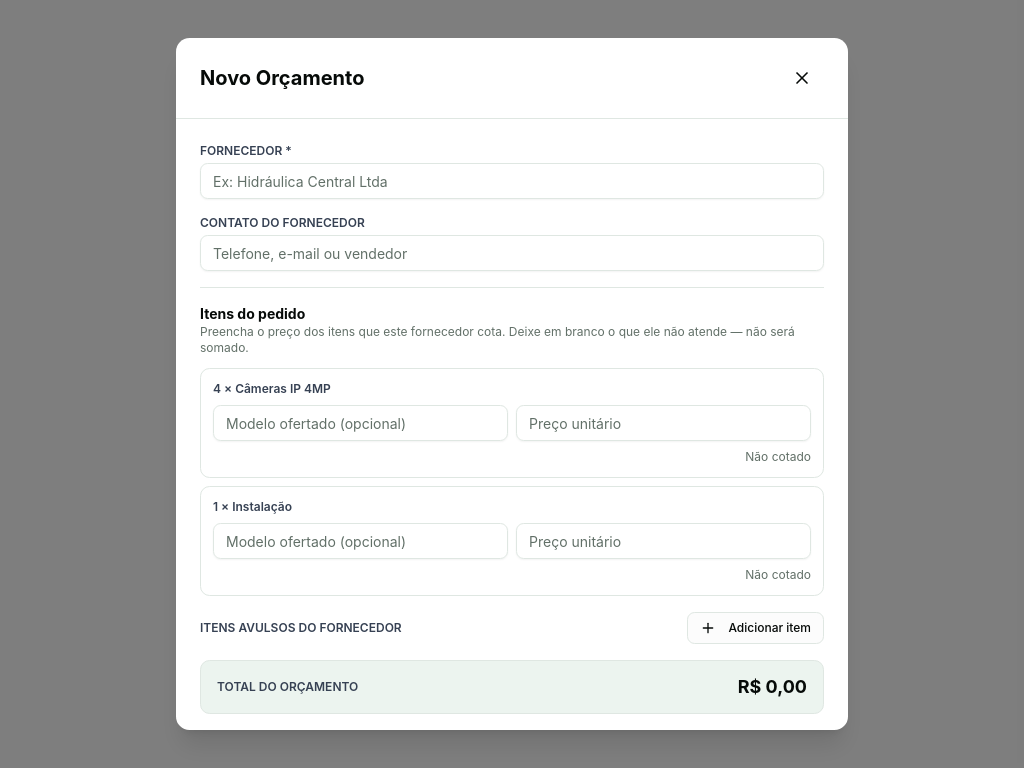
Test case: QuoteFormModal › refuses an extra line whose quantity is zero
In the field labelled "Fornecedor *": (512, 181) [200,163,824,199], type "Fornecedor"
In the number field with test id "quote-line-price-ri-cam": (664, 423) [516,405,811,441], type "10"
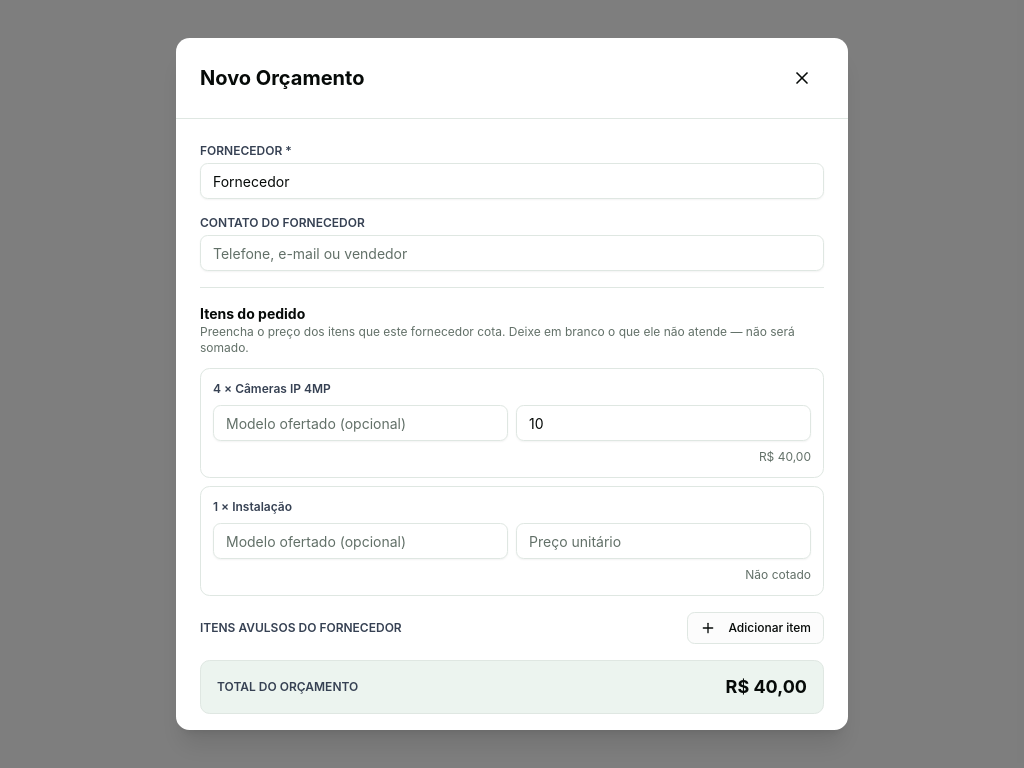
Click the button "Adicionar item": (756, 628) [687,612,824,644]
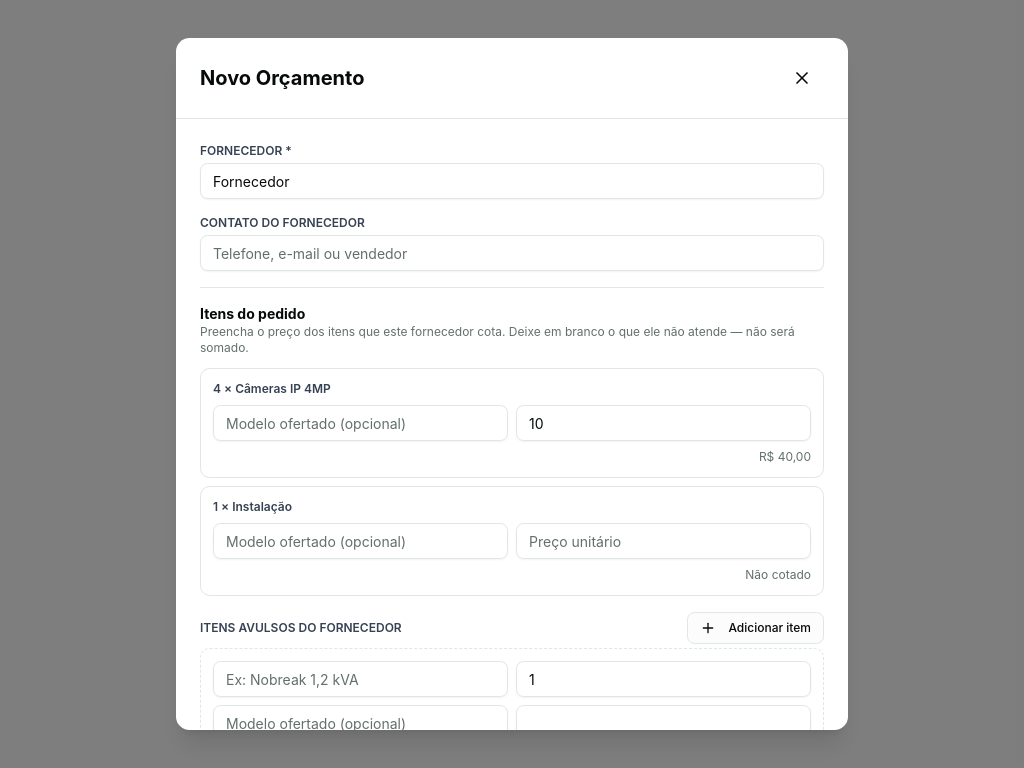
In the field with test id "quote-extra-description-0": (360, 679) [213,661,508,697], type "Nobreak"
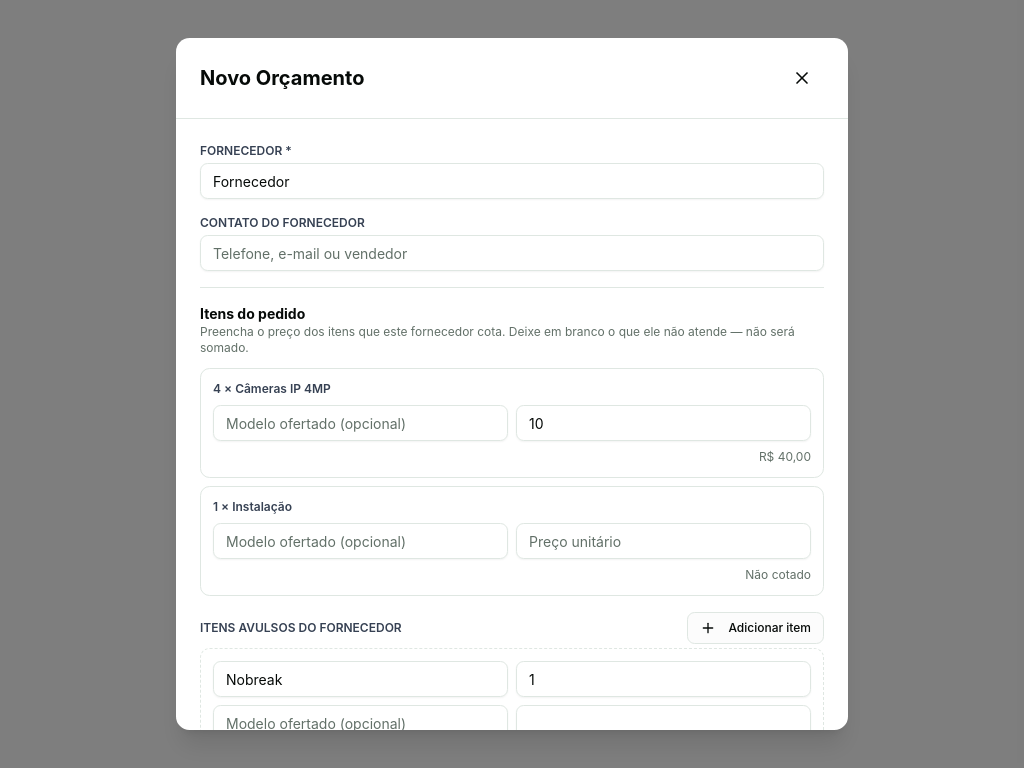
Replace the text in the number field with test id "quote-extra-quantity-0" with "0": (664, 679) [516,661,811,697]
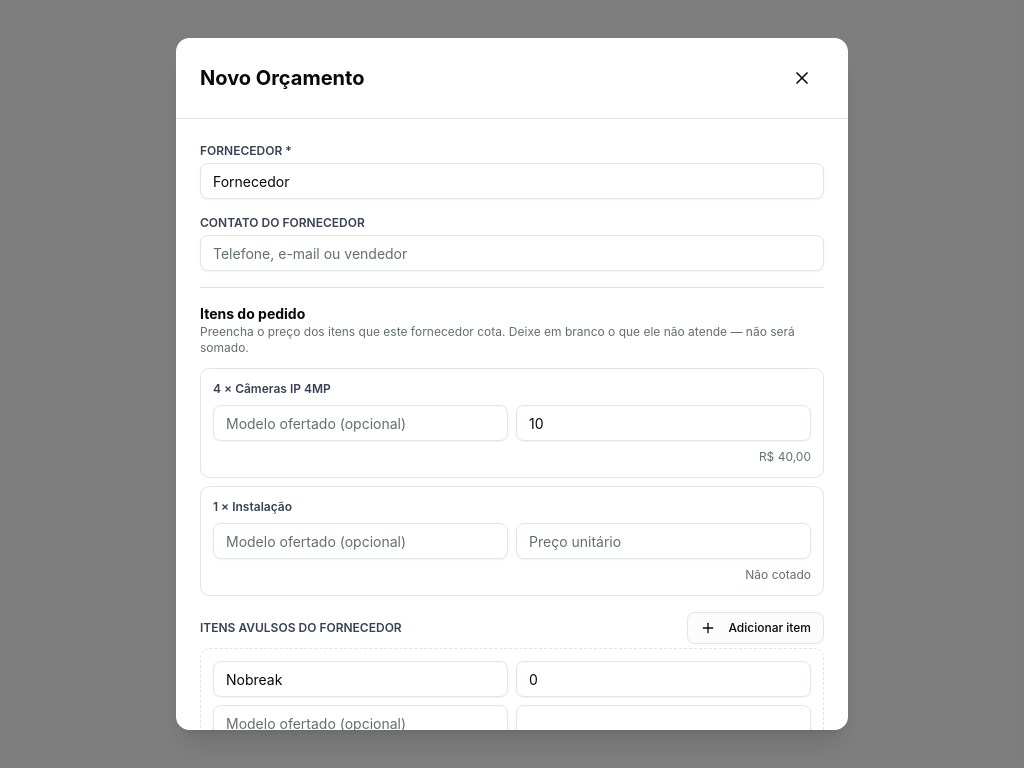
In the number field with test id "quote-extra-price-0": (664, 723) [516,705,811,741], type "10"
(page scrolled)
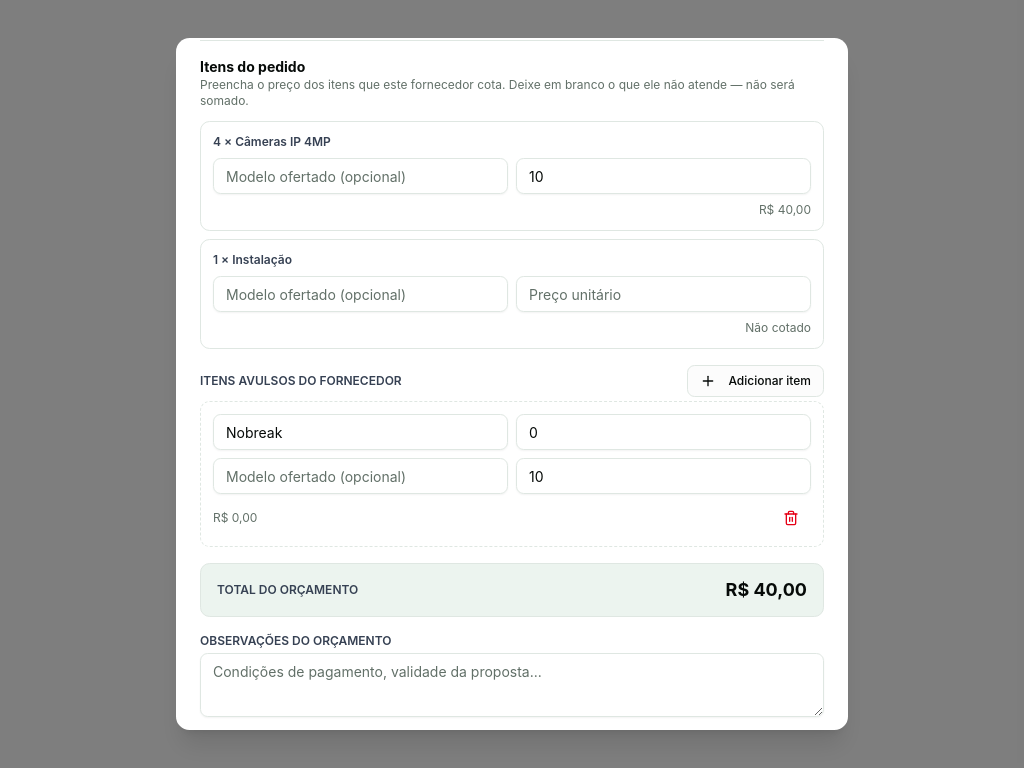
Submit the form with test id "quote-form"
(page scrolled)
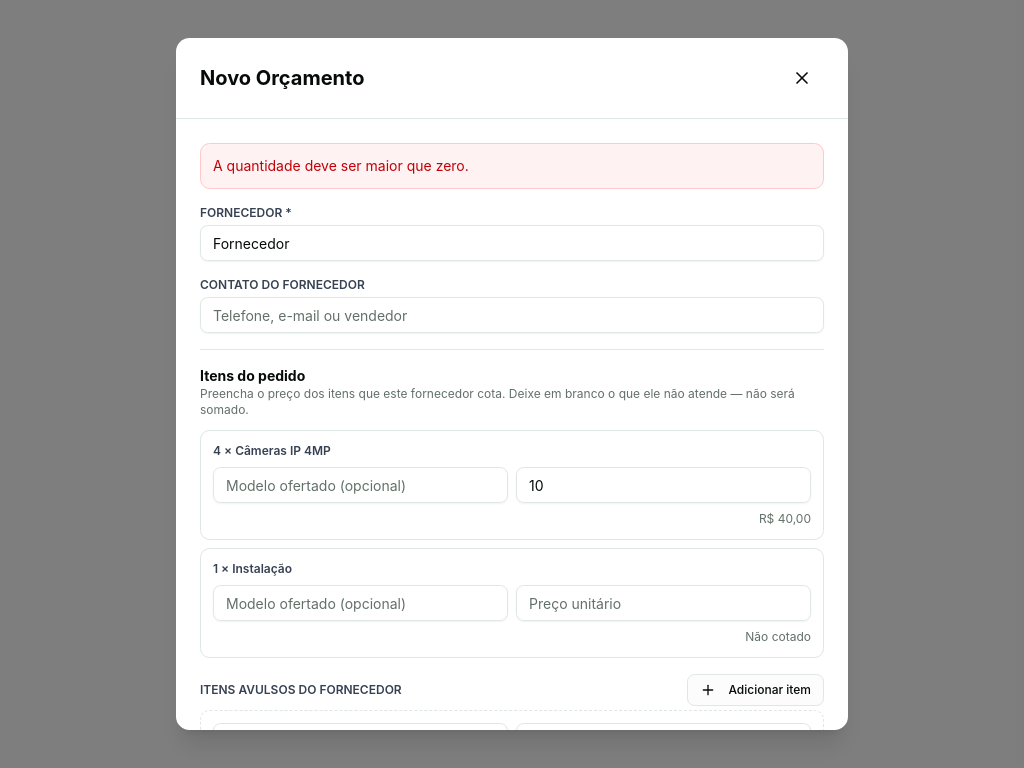
Result: the text "A quantidade deve ser maior que zero." is shown at [200,143,824,189]
